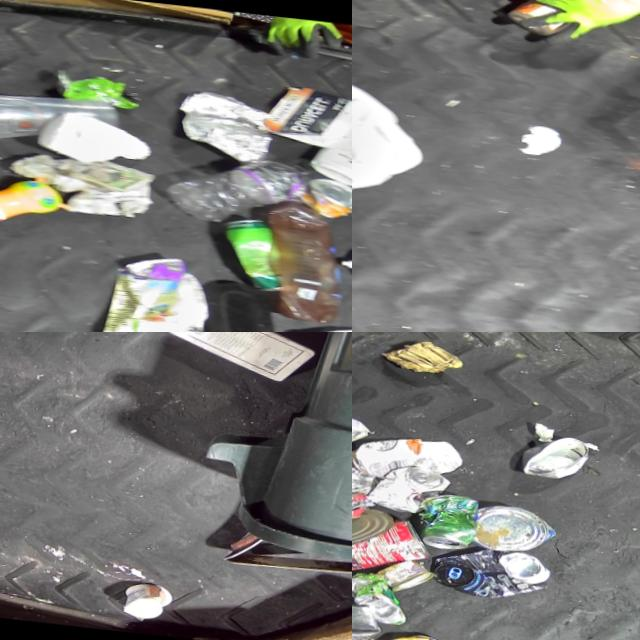can: (431, 540, 552, 602), (214, 212, 290, 292), (352, 507, 432, 580), (365, 461, 451, 516), (473, 500, 558, 555), (414, 491, 480, 552), (521, 430, 595, 481), (352, 569, 410, 623), (297, 173, 352, 219), (374, 554, 434, 595), (352, 497, 392, 554), (352, 407, 371, 449)
milk_jug: (352, 61, 431, 201), (155, 332, 321, 383)
plastic_bottle: (162, 146, 314, 229)
